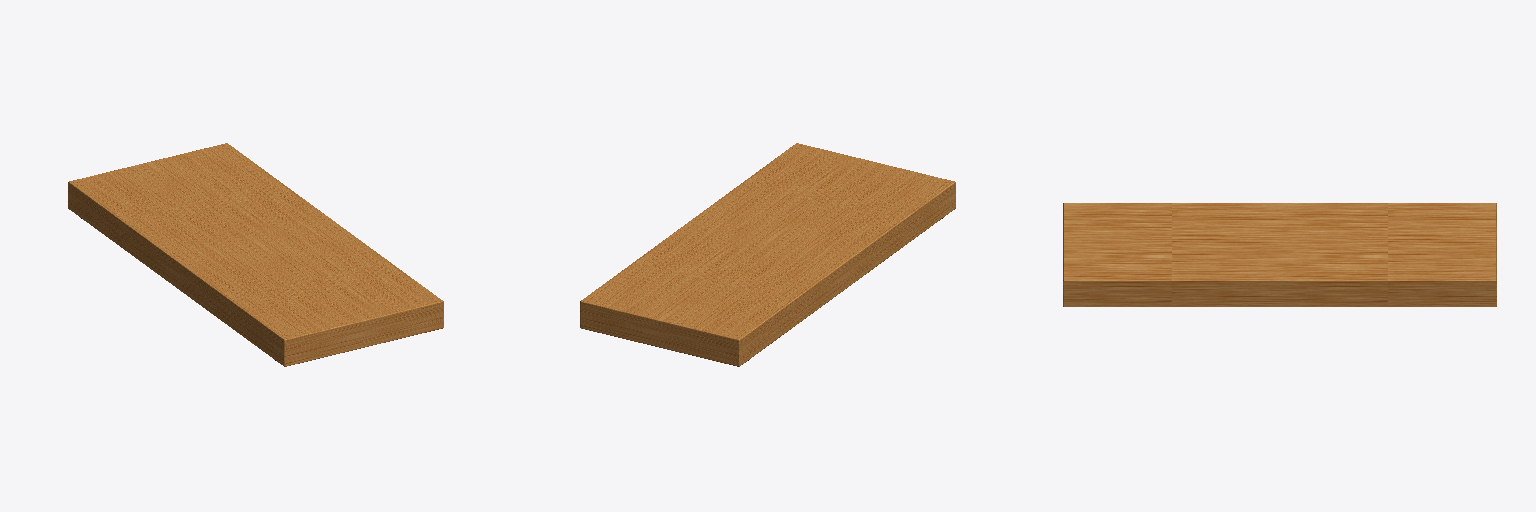
The picture shows the model from 3 angles: view 1: azimuth 30°, elevation 25°; view 2: azimuth 150°, elevation 25°; view 3: azimuth 270°, elevation 25°; orthographic projection.
Parts seen in each view (by area): view 1: pp52_stell; view 2: pp52_stell; view 3: pp52_stell.
Boxes of the visible parts, x1,y1,x2,y2 form: pp52_stell: [68, 143, 443, 366]; pp52_stell: [580, 143, 955, 366]; pp52_stell: [1063, 203, 1496, 306].
Bounding box in the file's own units: 85 × 15 × 200.
2 materials, 1 textured.